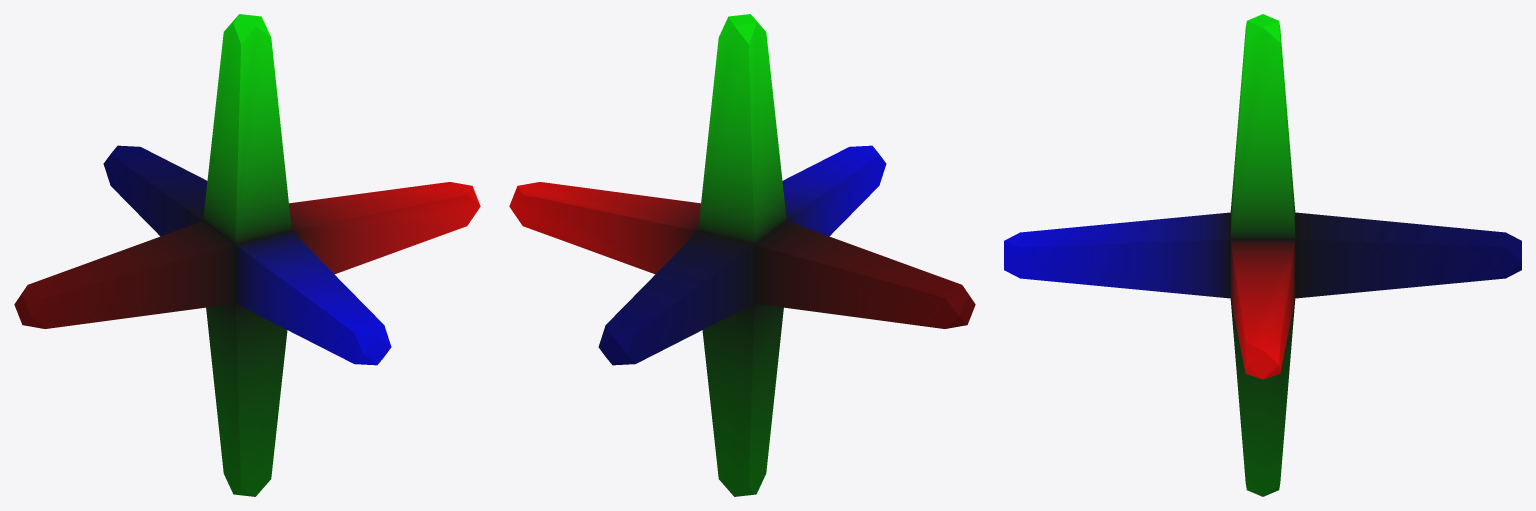
Rendered from axis gizmo.gltf.
3 renders of one model, left to right at view 1: azimuth 30°, elevation 25°; view 2: azimuth 150°, elevation 25°; view 3: azimuth 270°, elevation 25°, orthographic.
Parts seen in each view (by area): view 1: Cube; view 2: Cube; view 3: Cube.
Part boxes in pixels (left/top/right/bottom): Cube: left=14, top=14, right=480, bottom=496; Cube: left=509, top=14, right=975, bottom=496; Cube: left=1004, top=14, right=1521, bottom=496.
Bounding box in the file's own units: 2 × 2 × 2.
